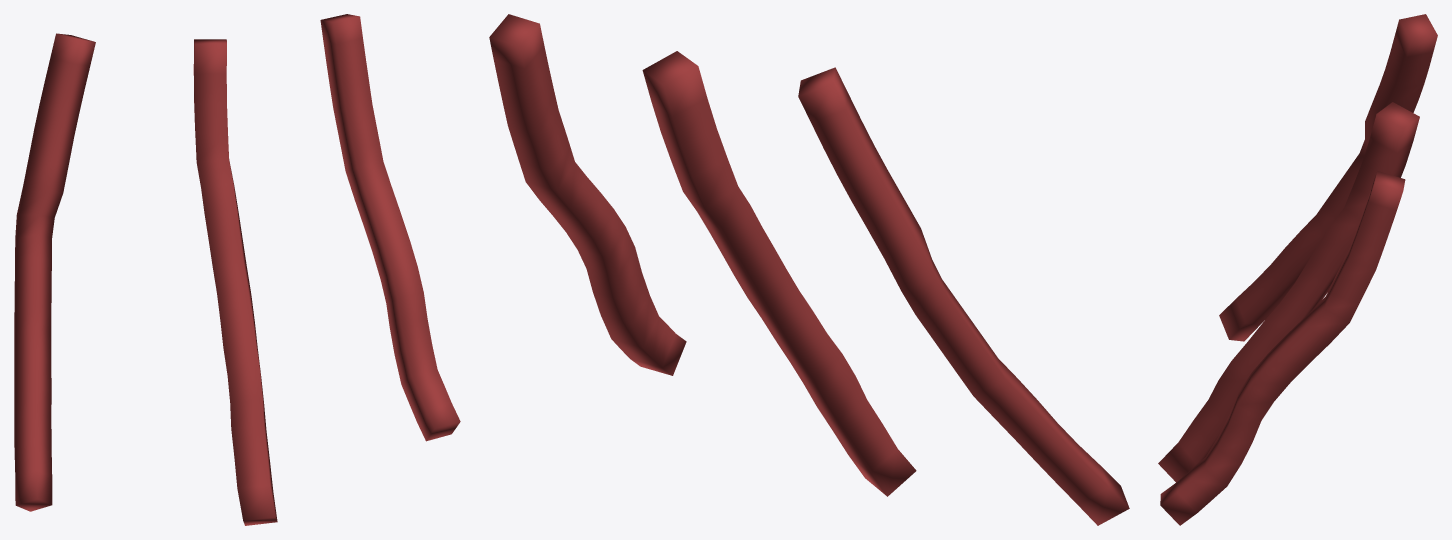
The model's file is synovial-sheaths-of-digits-of-hand-r.glb.
3 renders of one model, left to right at view 1: azimuth 30°, elevation 25°; view 2: azimuth 150°, elevation 25°; view 3: azimuth 270°, elevation 25°, orthographic. The views are drawn at different scales.
Visible parts, largest first — view 1: Synovial sheaths of digits of hand.r; view 2: Synovial sheaths of digits of hand.r; view 3: Synovial sheaths of digits of hand.r.
Boxes of the visible parts, box(x1,y1,x2,y2) form: Synovial sheaths of digits of hand.r: box(14, 14, 460, 525); Synovial sheaths of digits of hand.r: box(489, 14, 1129, 525); Synovial sheaths of digits of hand.r: box(1158, 14, 1437, 525).
Bounding box in the file's own units: 0.0617 × 0.0603 × 0.0359.
